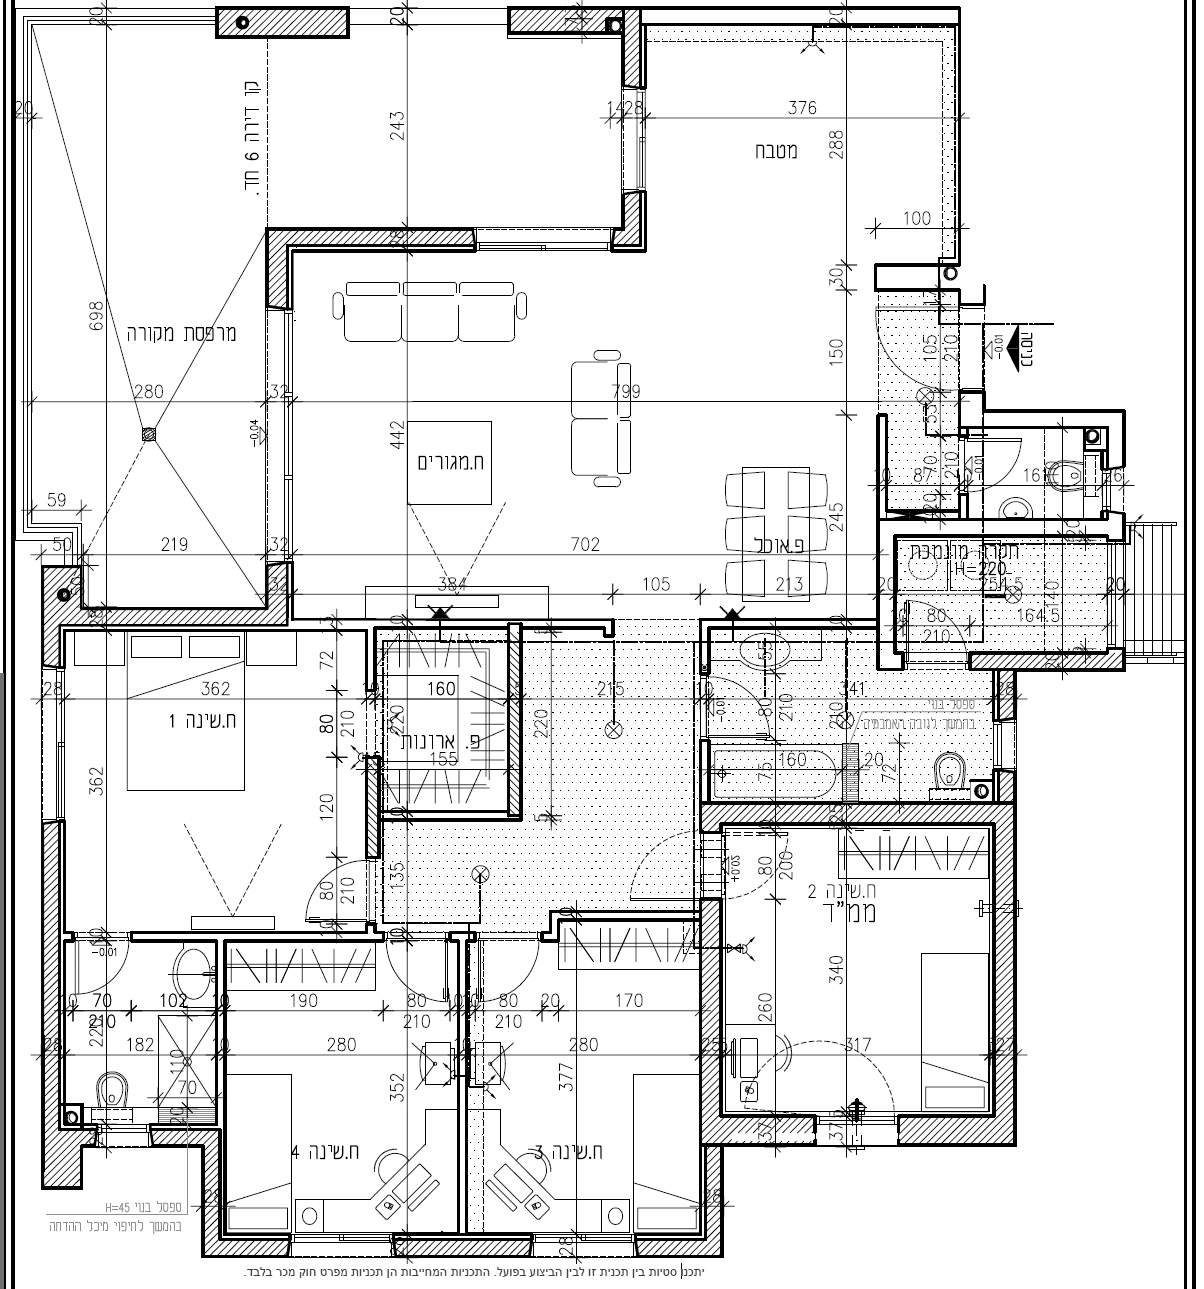door: (870, 298, 956, 399), (619, 827, 693, 905), (711, 674, 784, 744), (726, 828, 800, 897), (295, 857, 363, 923), (966, 432, 1032, 499), (471, 944, 540, 1003), (382, 943, 451, 1000), (898, 593, 967, 648), (72, 946, 137, 1002)
wall: (994, 804, 1016, 1145), (42, 826, 62, 1133), (700, 899, 721, 1122)
window: (265, 308, 293, 562), (41, 670, 67, 819), (478, 227, 614, 252), (289, 1231, 394, 1258), (531, 1232, 636, 1258), (816, 1116, 898, 1148), (621, 91, 646, 194), (95, 1122, 149, 1148), (992, 717, 1017, 768)
